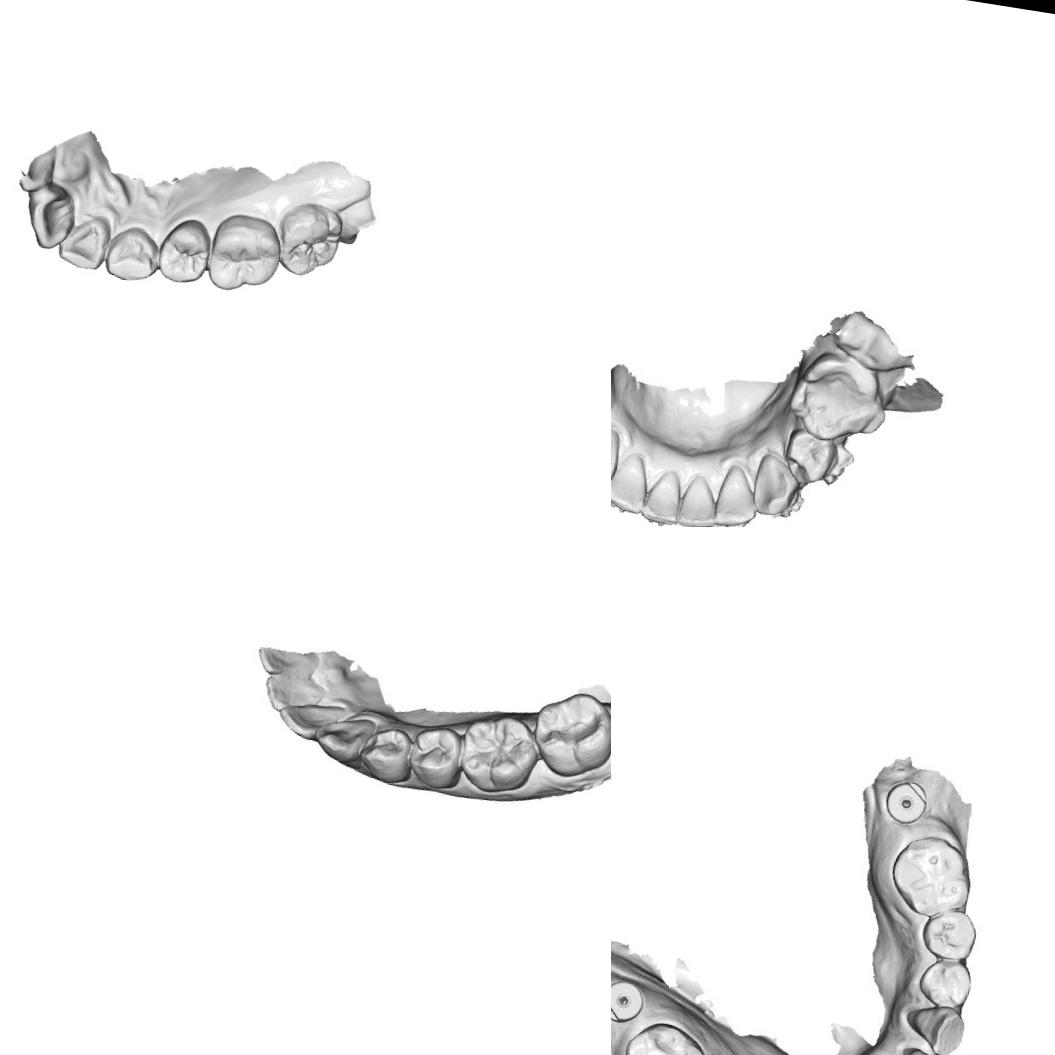canine: (898, 997, 971, 1055), (102, 222, 163, 286), (748, 454, 805, 520), (312, 710, 373, 769), (611, 423, 629, 499)
implant: (884, 778, 926, 824), (611, 976, 647, 1028)
incisor: (20, 178, 80, 253), (54, 207, 112, 273), (710, 462, 766, 527), (276, 700, 346, 744), (262, 670, 327, 715), (611, 454, 653, 517), (639, 470, 685, 527), (673, 477, 723, 527), (904, 1044, 959, 1055)
molar: (786, 348, 894, 450), (885, 830, 976, 922), (528, 685, 611, 784), (202, 210, 286, 299), (455, 711, 540, 798), (273, 198, 346, 281), (615, 1015, 711, 1055)
premolar: (153, 214, 214, 287), (407, 721, 466, 789), (780, 424, 842, 486), (357, 726, 418, 786), (916, 956, 977, 1014), (923, 907, 980, 967)
